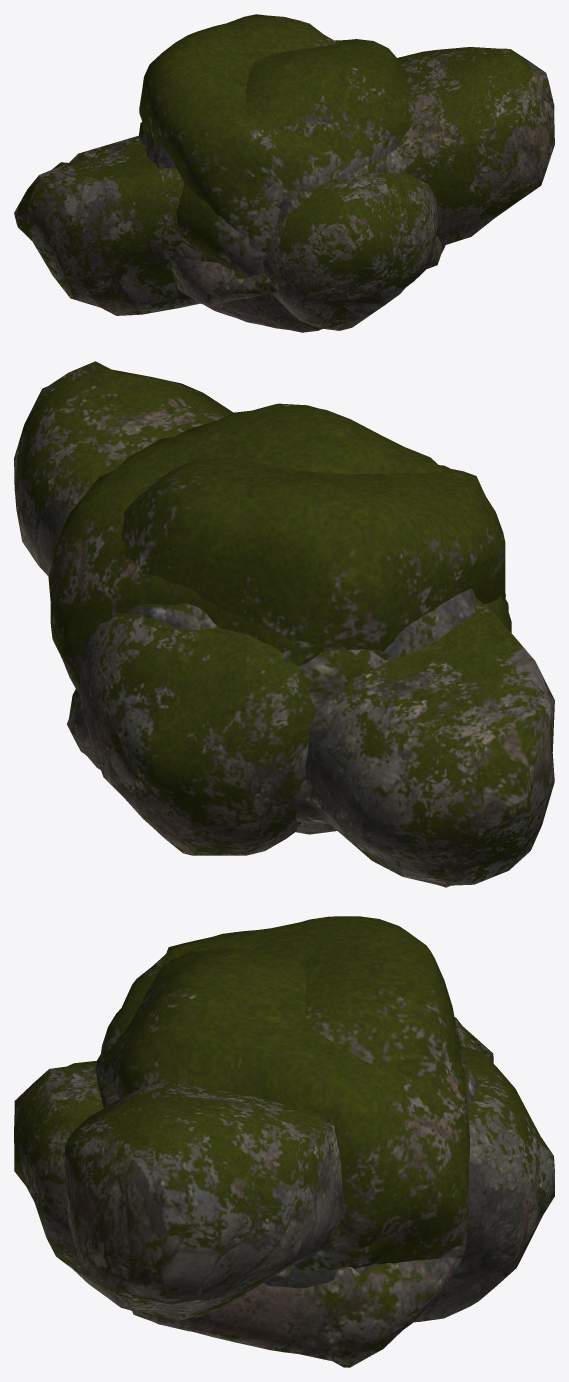
The model's file is ocean-rocks.glb.
The picture shows the model from 3 angles, top to bottom: view 1: azimuth 30°, elevation 25°; view 2: azimuth 150°, elevation 25°; view 3: azimuth 270°, elevation 25°; orthographic projection. The views are drawn at different scales.
Visible parts, largest first — view 1: Reef_04, Boulder_01, Reef_03, Boulder_06, Boulder_04, Boulder_03, Boulder_02; view 2: Reef_04, Boulder_01, Reef_03, Boulder_06, Boulder_04, Boulder_05, Boulder_03, Boulder_02; view 3: Boulder_06, Reef_04, Reef_03, Boulder_01, Boulder_03, Boulder_02, Boulder_05.
Boxes of the visible parts, <box> form: Reef_04: <box>14,47,554,315</box>; Boulder_01: <box>139,14,406,252</box>; Reef_03: <box>263,172,438,330</box>; Boulder_06: <box>144,39,415,223</box>; Boulder_04: <box>139,122,394,277</box>; Boulder_03: <box>170,235,445,307</box>; Boulder_02: <box>170,243,323,332</box>; Reef_04: <box>14,361,554,887</box>; Boulder_01: <box>121,456,505,664</box>; Reef_03: <box>79,613,315,855</box>; Boulder_06: <box>48,403,475,697</box>; Boulder_04: <box>282,596,511,711</box>; Boulder_05: <box>126,603,217,630</box>; Boulder_03: <box>67,689,336,834</box>; Boulder_02: <box>294,780,329,824</box>; Boulder_06: <box>95,948,469,1270</box>; Reef_04: <box>65,1017,493,1320</box>; Reef_03: <box>14,1046,554,1331</box>; Boulder_01: <box>100,916,457,1103</box>; Boulder_03: <box>130,1257,462,1367</box>; Boulder_02: <box>263,1263,379,1288</box>; Boulder_05: <box>348,1063,477,1268</box>.
Bounding box in the file's own units: 9.61 × 5.28 × 7.28.
3 materials, 3 textured.
